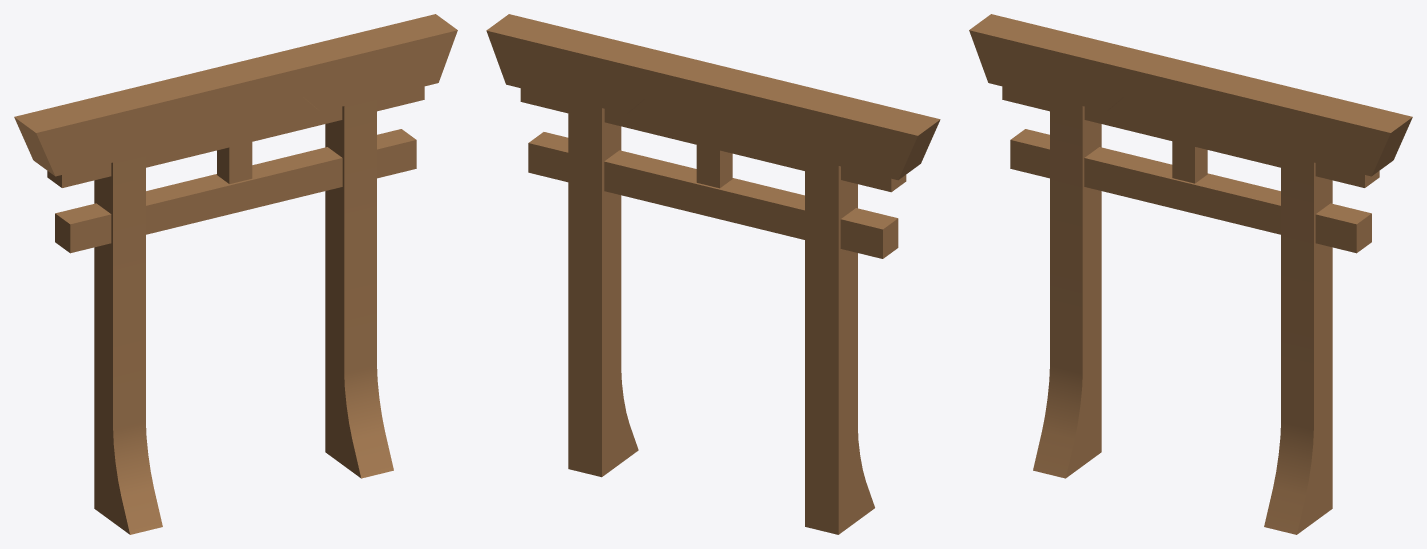
File: quaternius-sushi-restaurant-environment-toriigate.glb
3 views of the same model, side by side, from view 1: azimuth 30°, elevation 25°; view 2: azimuth 150°, elevation 25°; view 3: azimuth 330°, elevation 25° (orthographic). The views are drawn at different scales.
Parts seen in each view (by area): view 1: Environment_ToriiGate; view 2: Environment_ToriiGate; view 3: Environment_ToriiGate.
Part boxes in pixels (bbox=[...]): Environment_ToriiGate: bbox=[14, 14, 457, 534]; Environment_ToriiGate: bbox=[486, 14, 940, 534]; Environment_ToriiGate: bbox=[969, 14, 1412, 534].
Size of the model in its own units: 5.73 by 5.32 by 0.8752.
Materials: 1 (1 with a texture image).
